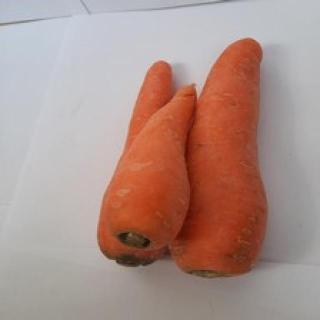carrot: (170, 36, 264, 276), (96, 62, 170, 268), (111, 82, 189, 248)
